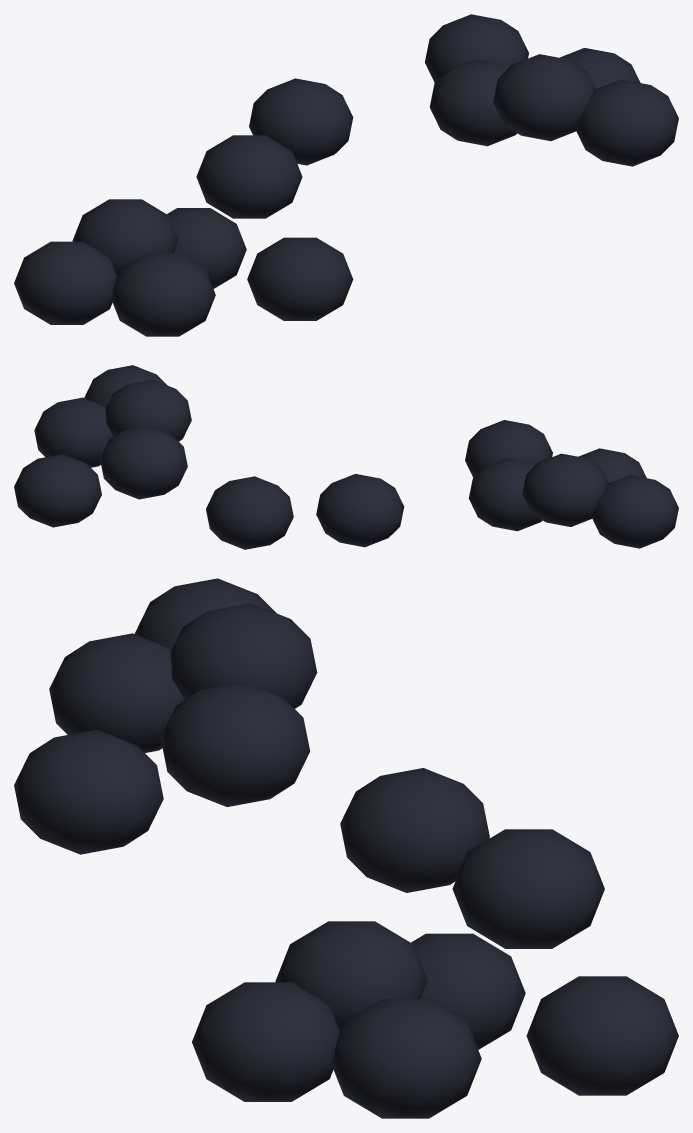
The model's file is stone.dae.
The picture shows the model from 3 angles, top to bottom: view 1: azimuth 30°, elevation 25°; view 2: azimuth 150°, elevation 25°; view 3: azimuth 270°, elevation 25°; orthographic projection. The views are drawn at different scales.
Parts seen in each view (by area): view 1: Icosphere.006; view 2: Icosphere.006; view 3: Icosphere.006.
Part boxes in pixels (x1,y1,x2,y2): Icosphere.006: [14, 14, 678, 336]; Icosphere.006: [14, 365, 678, 549]; Icosphere.006: [14, 578, 678, 1118].
Bounding box in the file's own units: 2.65 × 1.56 × 0.4004.
Materials: 1 (1 with a texture image).
